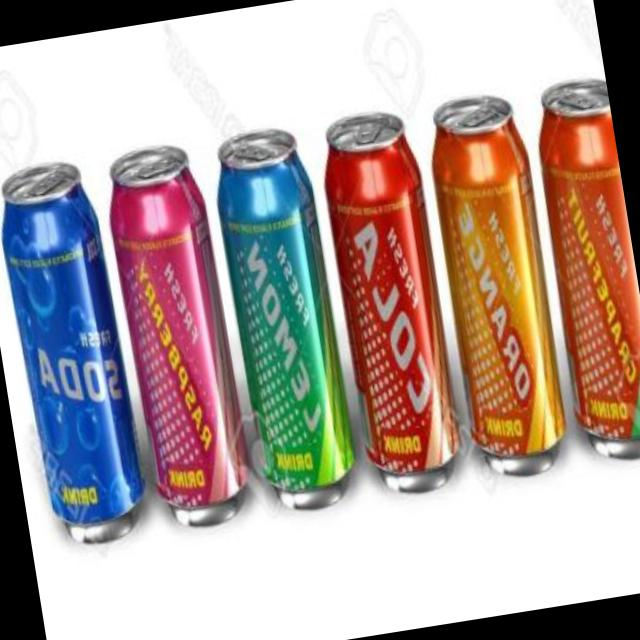metal: (3, 165, 144, 541), (111, 148, 248, 524), (326, 111, 460, 491), (221, 131, 355, 507), (433, 97, 566, 474), (540, 79, 640, 456)
